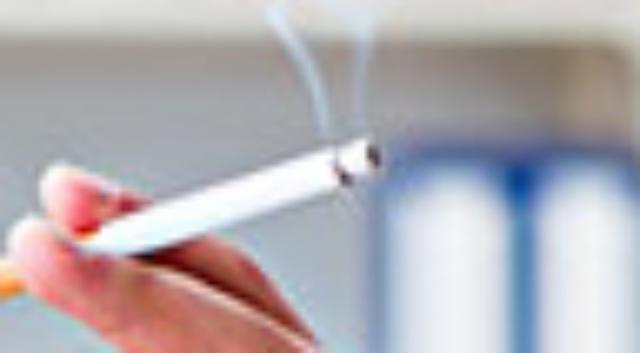Cigarette: (0, 136, 382, 302)
